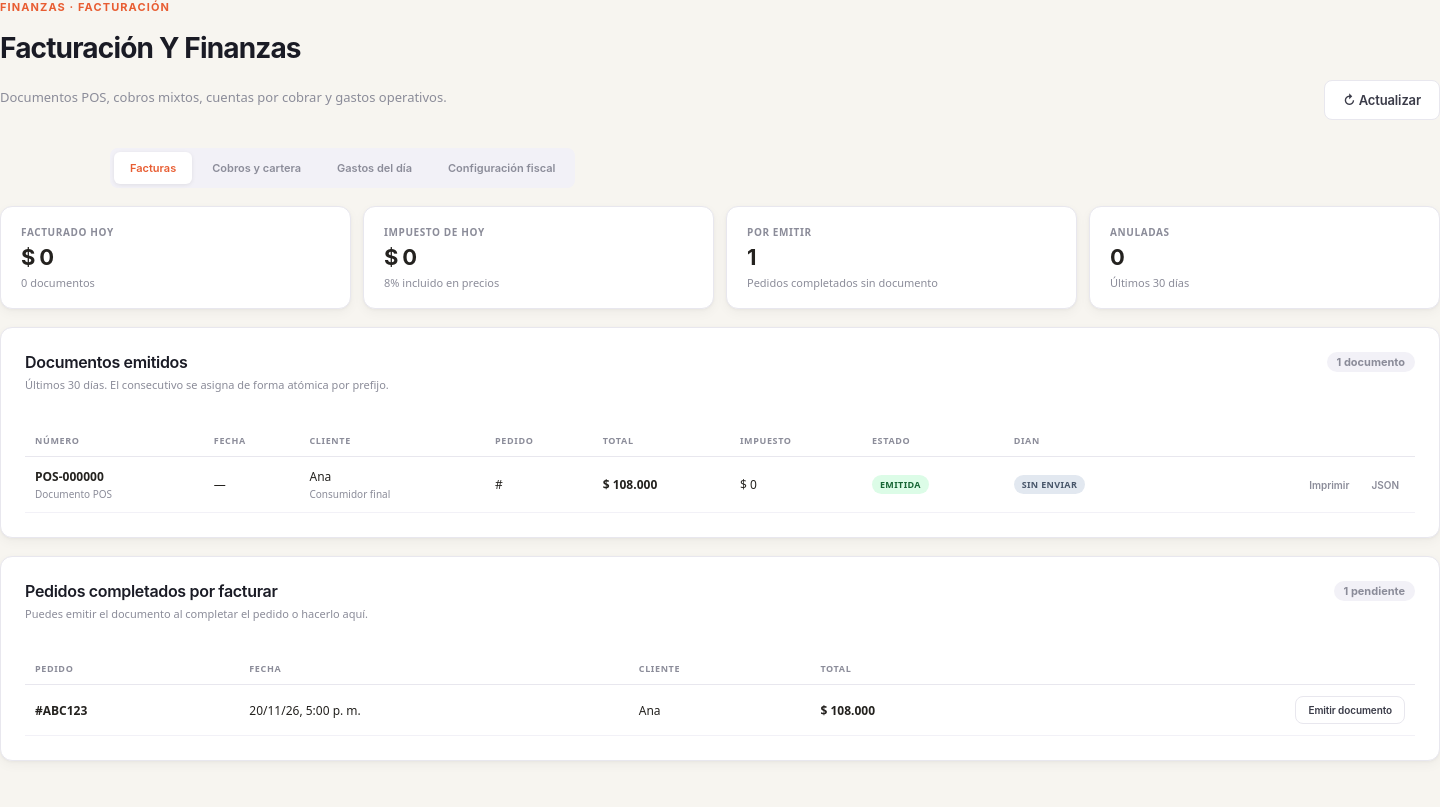
it: vista de facturación › permite recorrer las cuatro secciones
Check: the heading "Facturación y finanzas" is shown, box [0,31,301,65]
Check: the heading "Documentos emitidos" is shown, box [25,352,188,372]
What coordinates should you click on to do the following:
click the tab "Cobros y cartera"
I would click on:
 (257, 168)
Its box is [196,152,317,184].
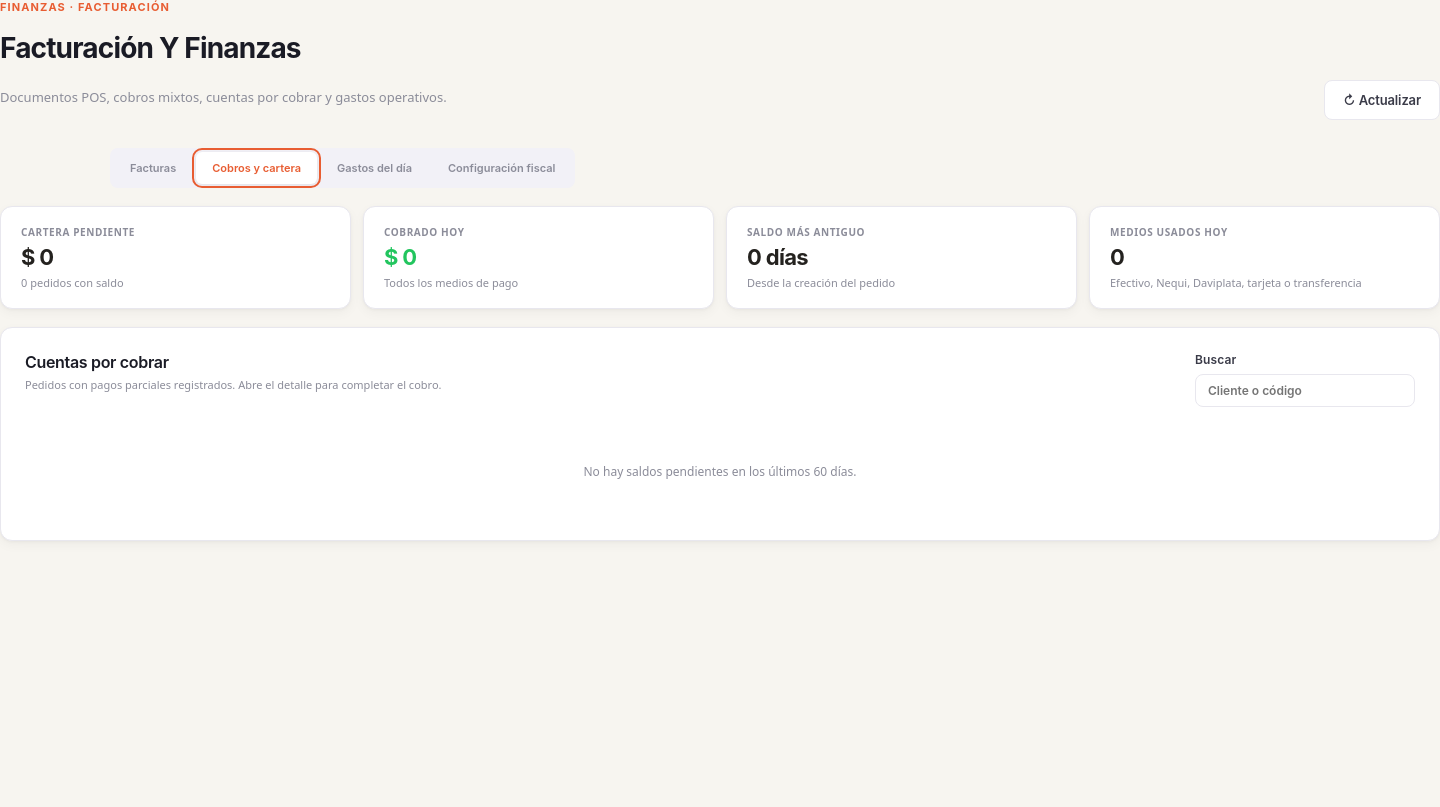
Check: the heading "Cuentas por cobrar" is shown, box [25,352,169,372]
What coordinates should you click on to do the following:
click the tab "Gastos del día"
I would click on:
 (374, 168)
Its box is [321,152,428,184].
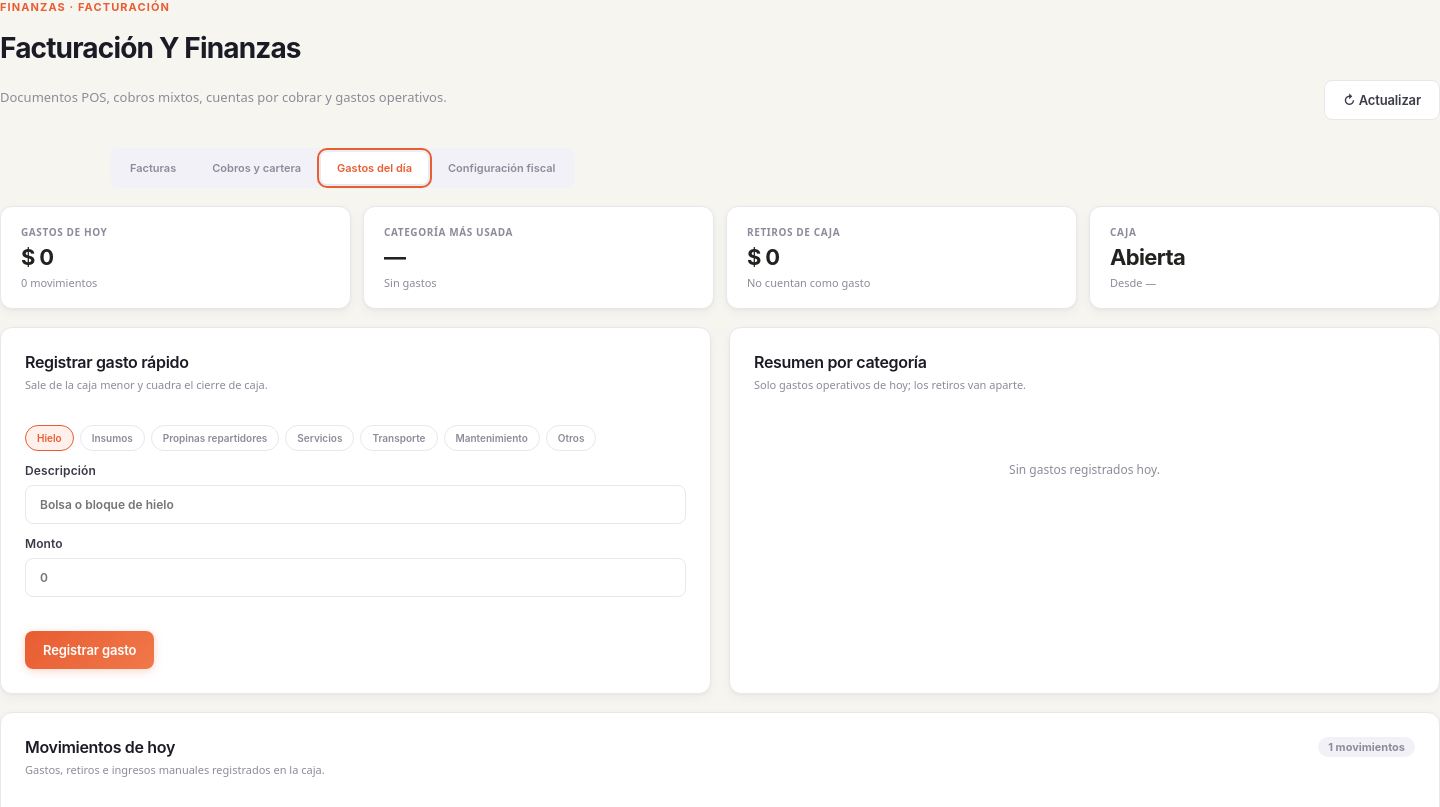
Check: the heading "Registrar gasto rápido" is shown, box [25,352,189,372]
What coordinates should you click on to do the following:
click the tab "Configuración fiscal"
I would click on:
 (502, 168)
Its box is [432,152,571,184].
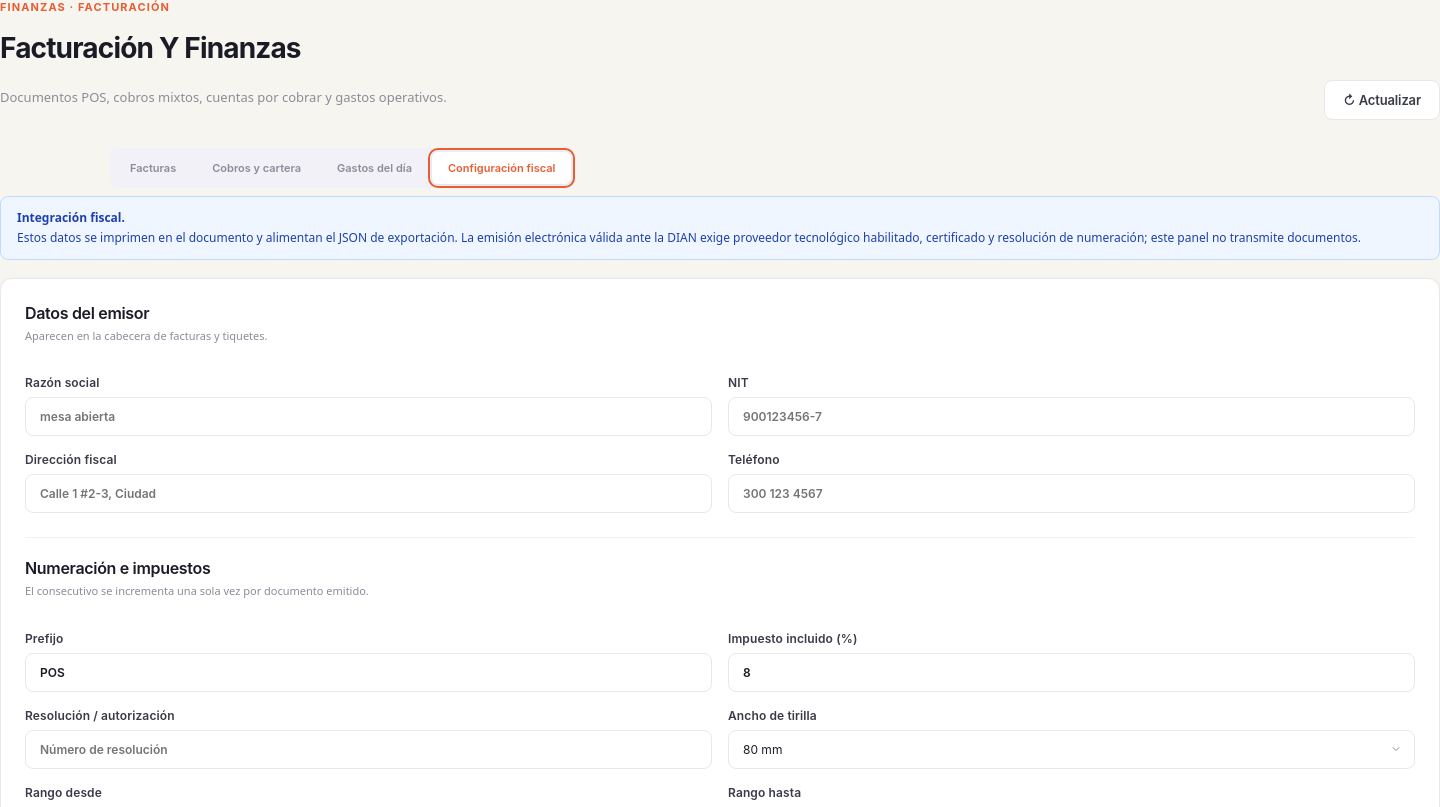
Check: the heading "Datos del emisor" is shown, box [25,303,149,323]
